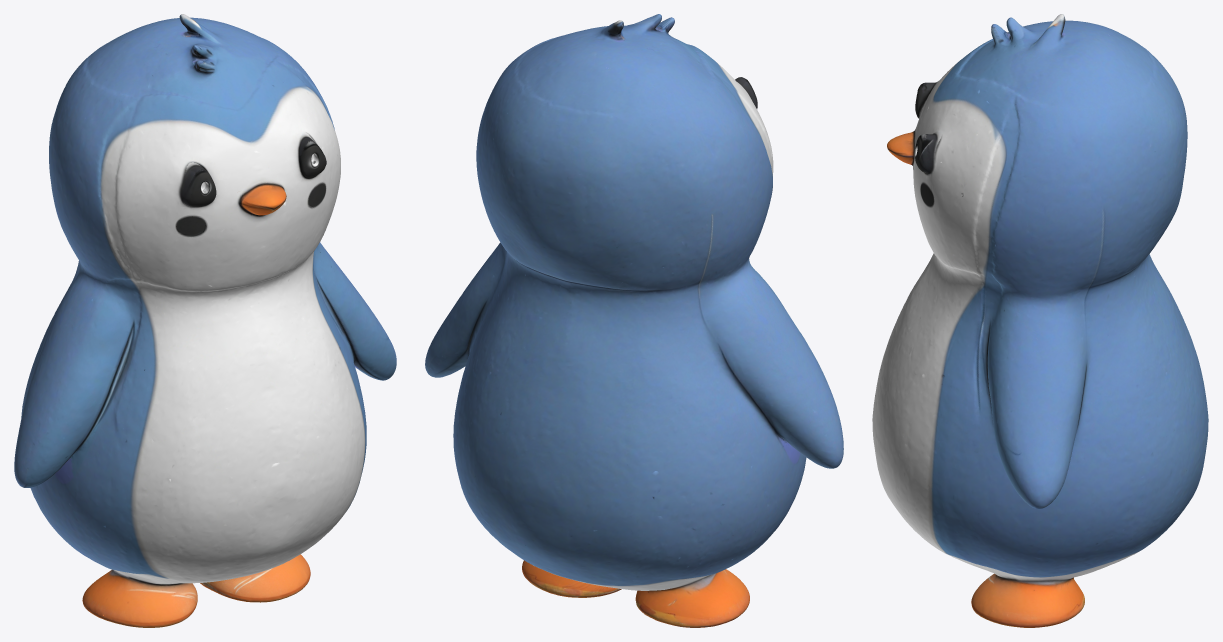
Rendered from pudgy-penguin.glb.
3 renders of one model, left to right at view 1: azimuth 30°, elevation 25°; view 2: azimuth 150°, elevation 25°; view 3: azimuth 270°, elevation 25°, orthographic. The views are drawn at different scales.
Parts seen in each view (by area): view 1: Object_0, Object_1, Object_2; view 2: Object_0, Object_1, Object_2; view 3: Object_1, Object_0, Object_2.
Part boxes in pixels (box(x1,y1,x2,y2)): Object_0: box(14, 17, 391, 616); Object_1: box(14, 18, 396, 627); Object_2: box(17, 14, 391, 614); Object_0: box(440, 17, 843, 627); Object_1: box(425, 14, 842, 615); Object_2: box(425, 20, 826, 627); Object_1: box(913, 17, 1202, 626); Object_0: box(872, 18, 1208, 627); Object_2: box(1019, 14, 1207, 627).
Size of the model in its own units: 1.37 by 1.9 by 1.02.
Materials: 1 (1 with a texture image).
